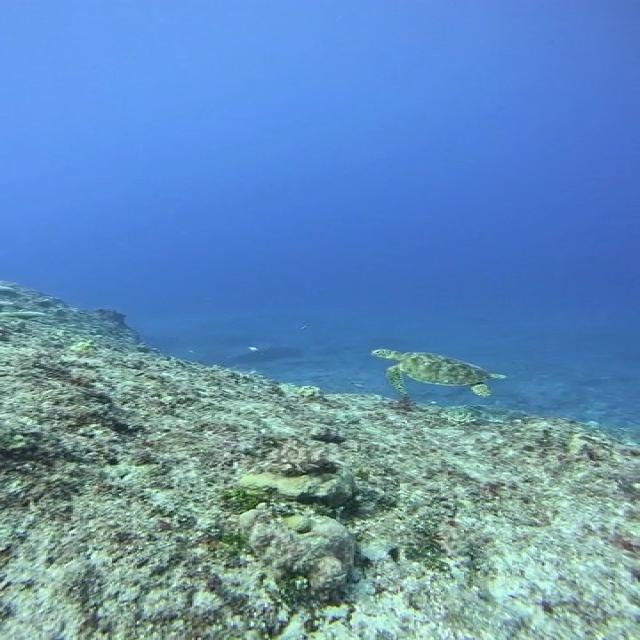turtle: (371, 348, 507, 398)
